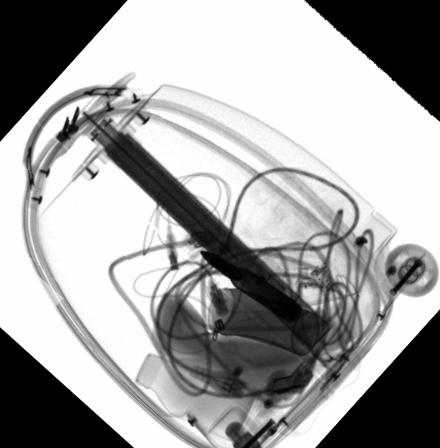Bullet: (199, 248, 302, 322)
